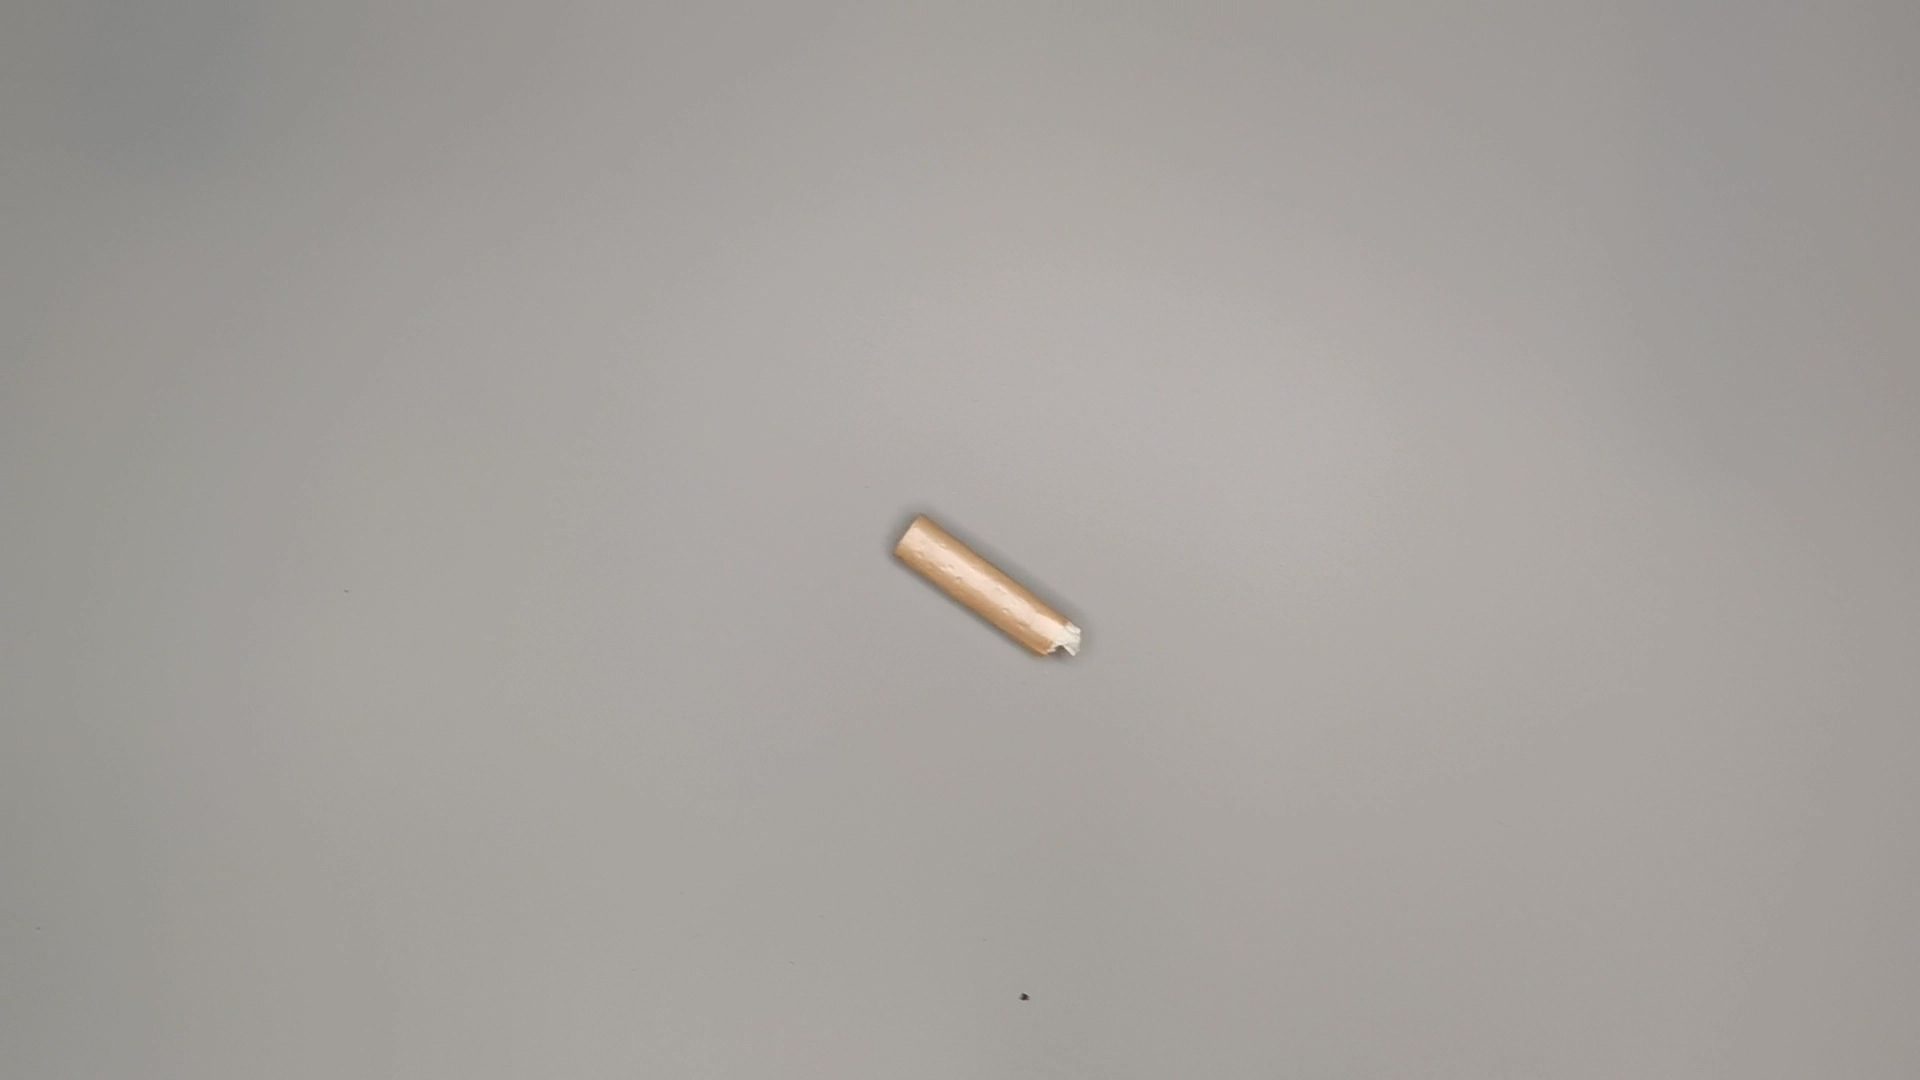cigarette: (891, 516, 1096, 673)
